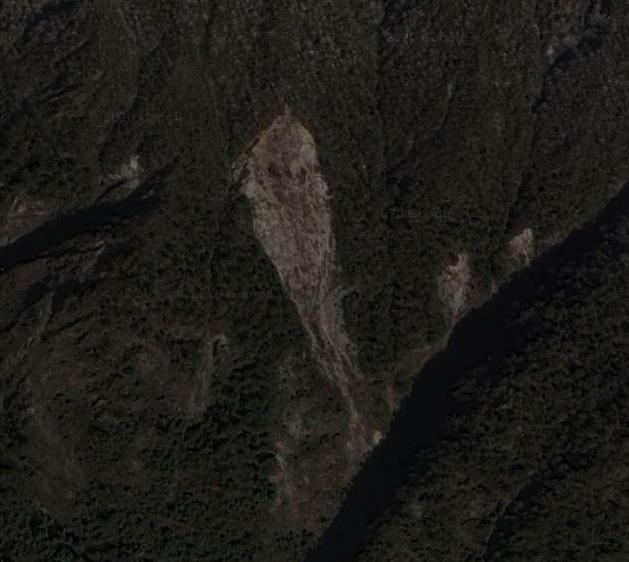slope: (229, 101, 364, 411), (429, 250, 477, 351), (496, 228, 532, 281)
